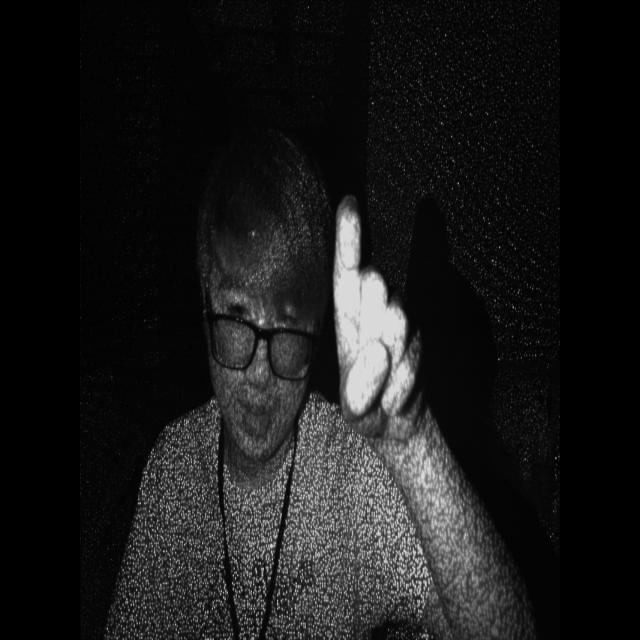X: (323, 196, 437, 457)
